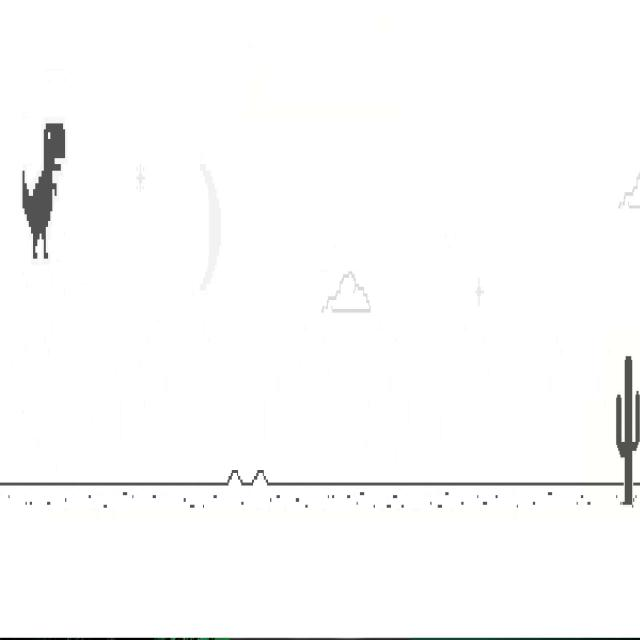cacto: (615, 354, 640, 506)
dino: (22, 121, 66, 260)
